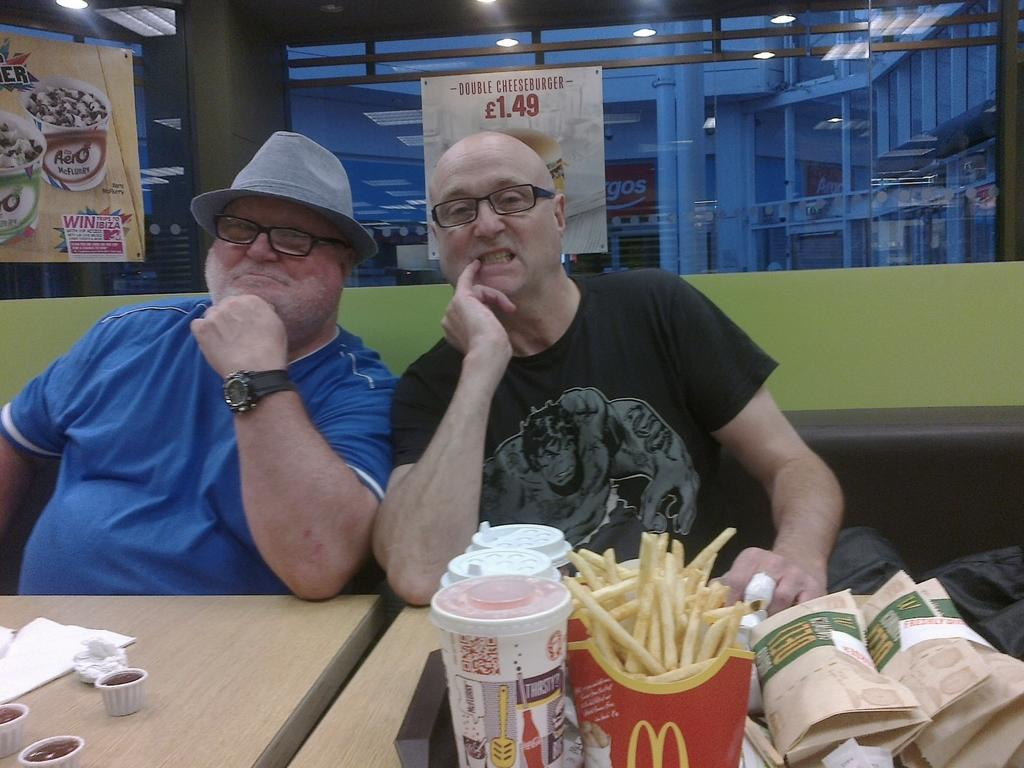Hat: (191, 128, 376, 268)
